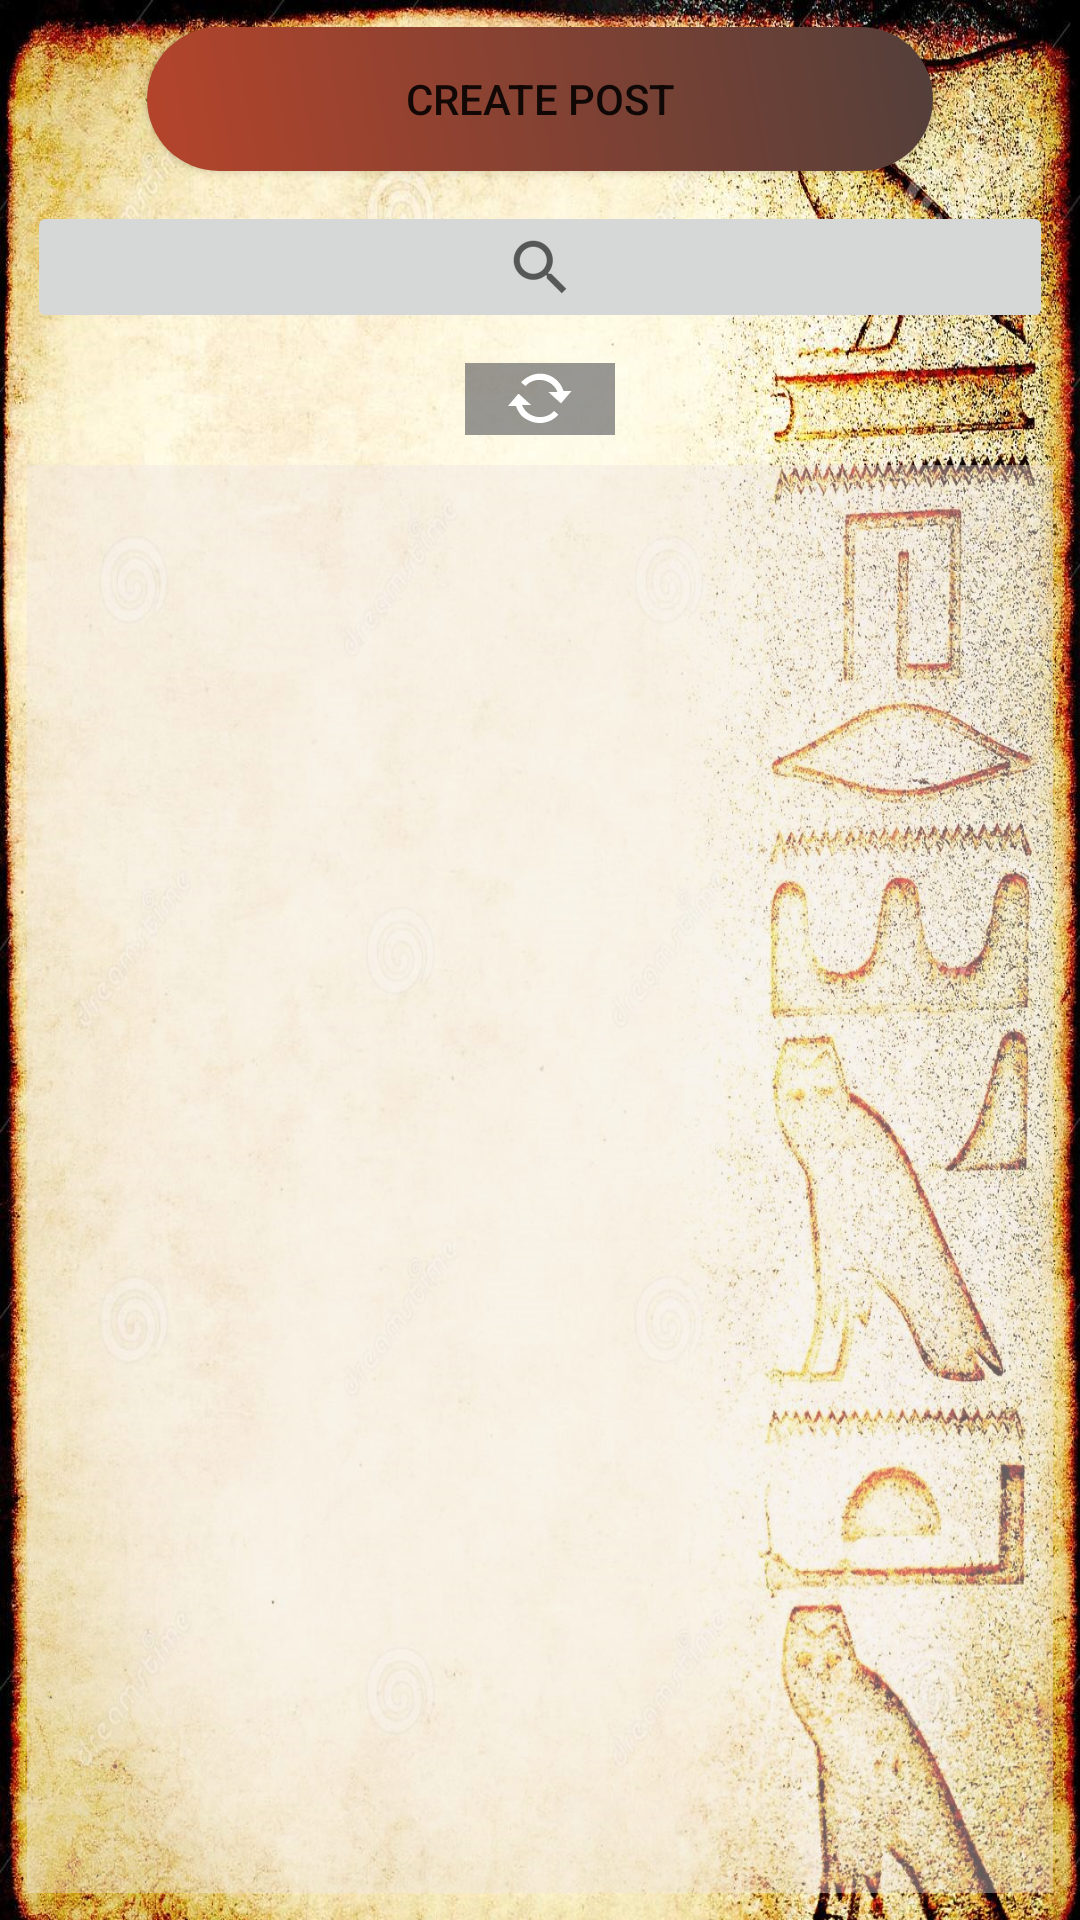

Locate icon controls on the screen. Image size 1080 x 1920, boxes as detection(x1, y1, x2, y2).
sync: detection(465, 363, 615, 435)
